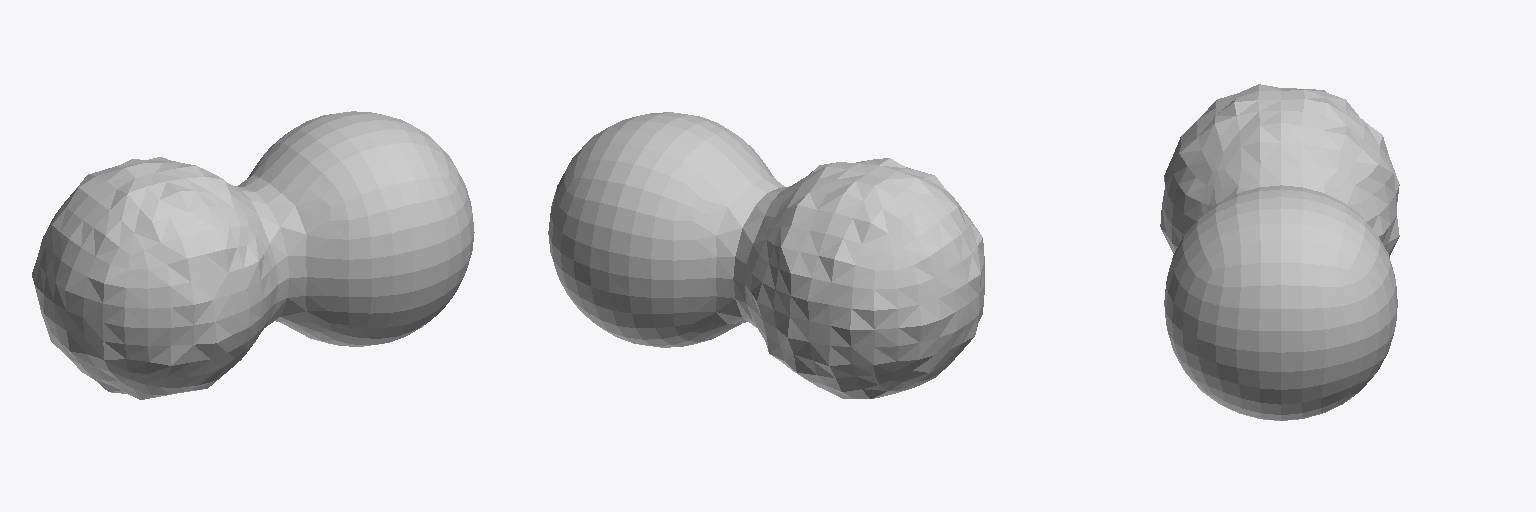
Rendered from peanutplanet.obj.
3 renders of one model, left to right at view 1: azimuth 30°, elevation 25°; view 2: azimuth 150°, elevation 25°; view 3: azimuth 270°, elevation 25°, orthographic.
Visible parts, largest first — view 1: peanutplanet.obj; view 2: peanutplanet.obj; view 3: peanutplanet.obj.
Boxes of the visible parts, box(x1,y1,x2,y2) form: peanutplanet.obj: box(32, 111, 474, 399); peanutplanet.obj: box(548, 112, 984, 398); peanutplanet.obj: box(1160, 84, 1399, 420).
Size of the model in its own units: 2905 by 1490 by 1491.